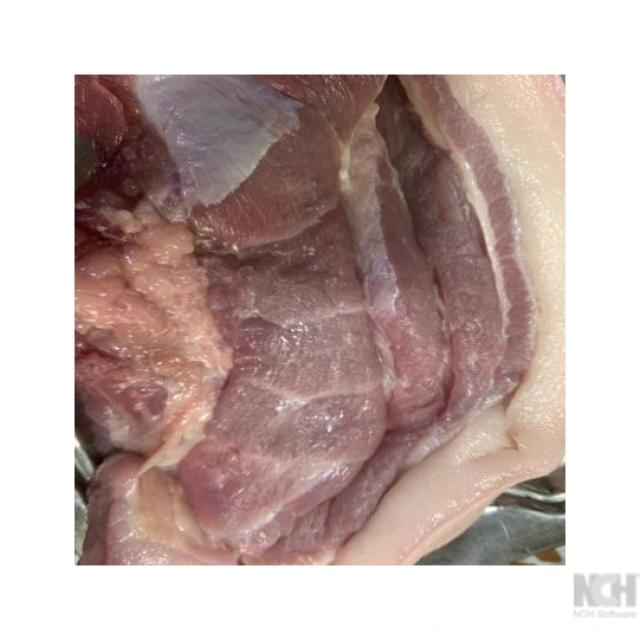rotten meat: (54, 56, 577, 574)
